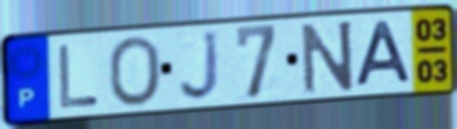7: (233, 22, 280, 101)
A: (353, 18, 416, 90)
J: (177, 28, 223, 104)
L: (56, 43, 102, 111)
N: (299, 18, 357, 97)
O: (105, 34, 163, 109)
